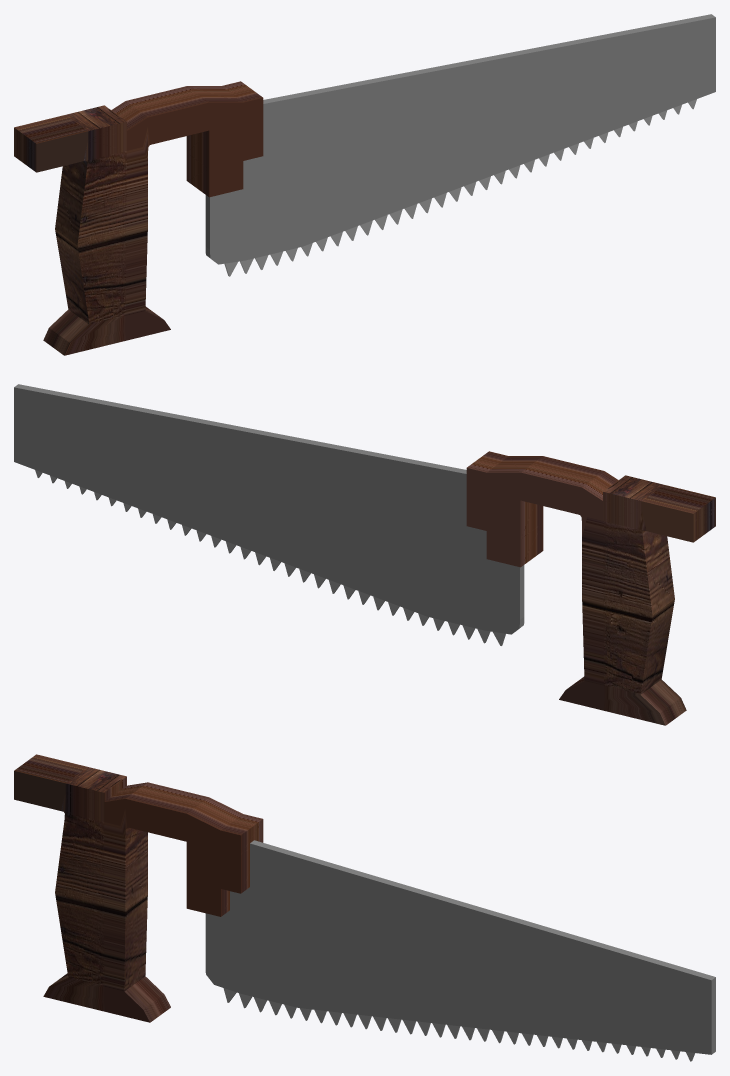
File: SAW.fbx
The picture shows the model from 3 angles, top to bottom: view 1: azimuth 30°, elevation 25°; view 2: azimuth 150°, elevation 25°; view 3: azimuth 330°, elevation 25°; orthographic projection.
Visible parts, largest first — view 1: Cube.001, Cube.034, Cube.033; view 2: Cube.001, Cube.034, Cube.033; view 3: Cube.001, Cube.034, Cube.033.
Boxes of the visible parts, x1,y1,x2,y2 form: Cube.001: (205,14,715,264); Cube.034: (14,81,263,355); Cube.033: (224,99,696,276); Cube.001: (14,384,524,634); Cube.034: (466,451,715,725); Cube.033: (35,470,505,645); Cube.001: (205,840,715,1054); Cube.034: (14,754,263,1022); Cube.033: (223,988,695,1061).
Size of the model in its own units: 1064 by 324 by 60.19.
Materials: 3 (1 with a texture image).
